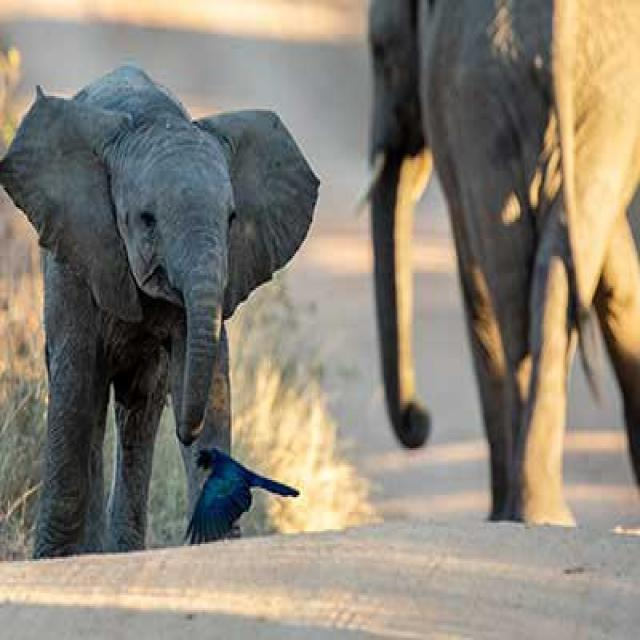Elephant: (0, 62, 320, 559), (358, 0, 638, 529)
